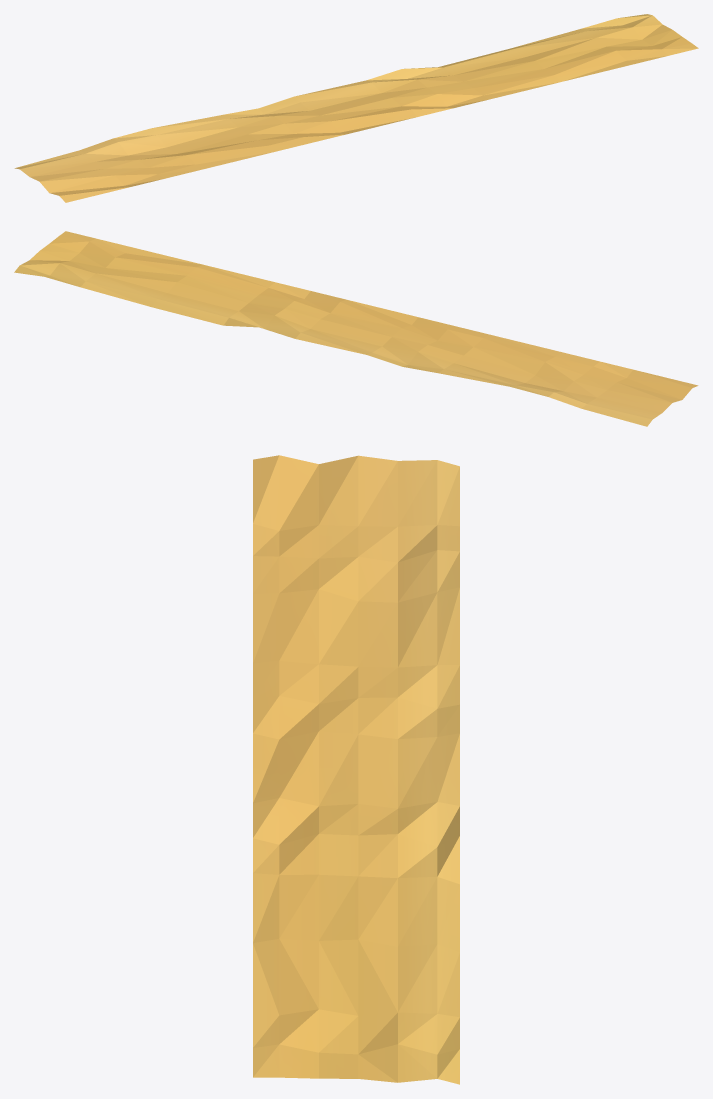
The model's file is SandGround.fbx.
The picture shows the model from 3 angles, top to bottom: view 1: azimuth 30°, elevation 25°; view 2: azimuth 150°, elevation 25°; view 3: azimuth 270°, elevation 25°; orthographic projection. The views are drawn at different scales.
Visible parts, largest first — view 1: SandGround; view 2: SandGround; view 3: SandGround.
Boxes of the visible parts, <box> form: SandGround: <box>14,14,698,202</box>; SandGround: <box>14,231,698,426</box>; SandGround: <box>253,455,459,1084</box>.
Bounding box in the file's own units: 16.43 × 0.2181 × 2.33.
